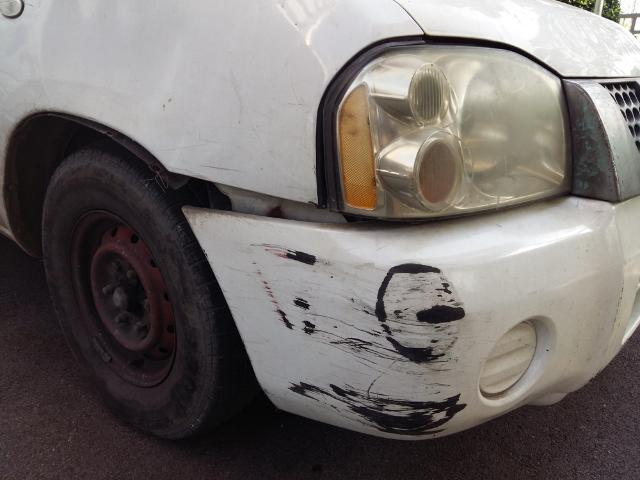dislocated part: (171, 170, 496, 240)
scratch: (245, 239, 467, 437)
